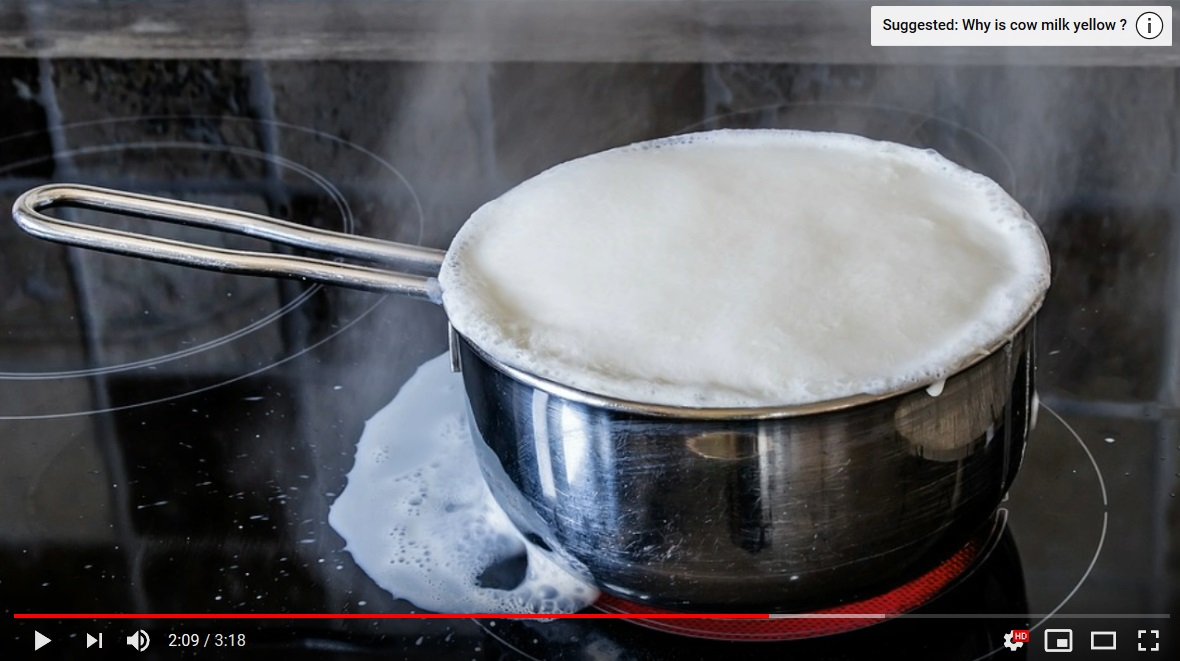Boiled: (430, 122, 1050, 584)
